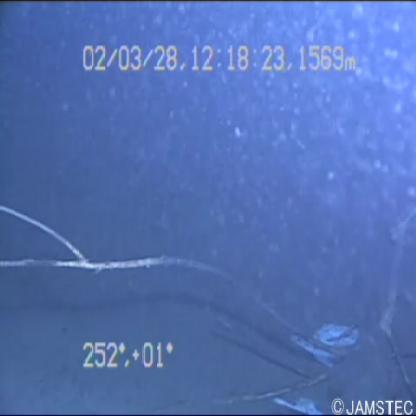Rác: (264, 375, 327, 416)
